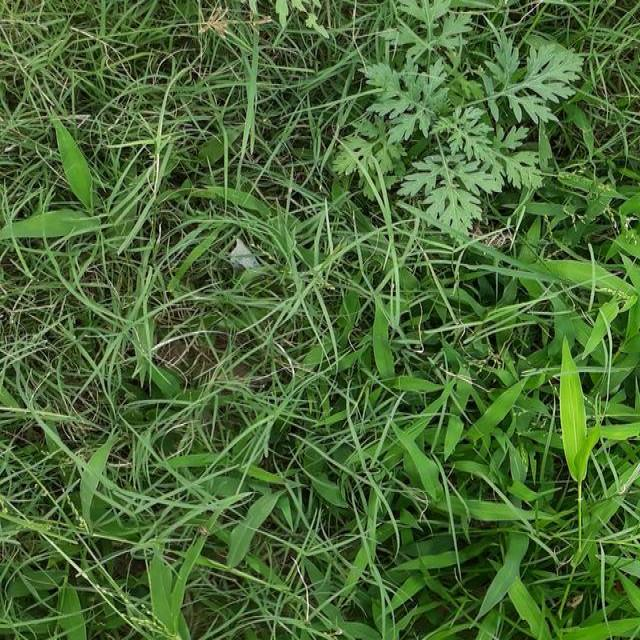weed: (6, 0, 326, 640), (340, 213, 640, 640)
